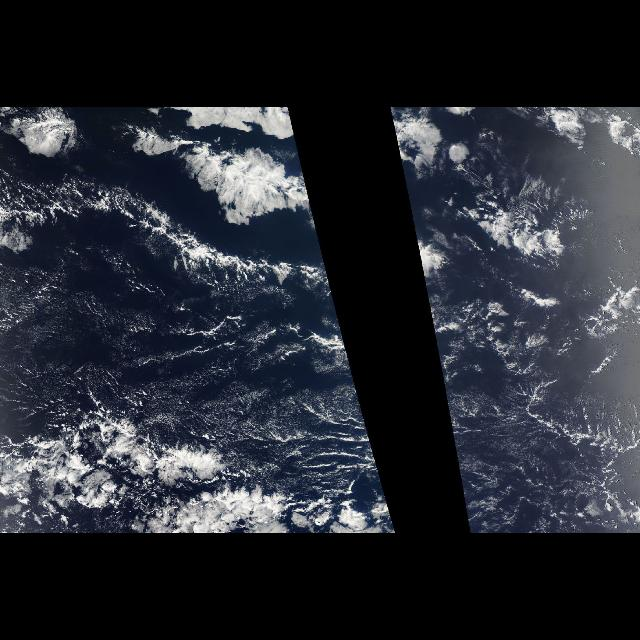Fish: (0, 144, 334, 306)
Flower: (1, 107, 328, 273), (391, 107, 579, 273)
Sugar: (1, 257, 371, 478), (441, 371, 639, 534)
